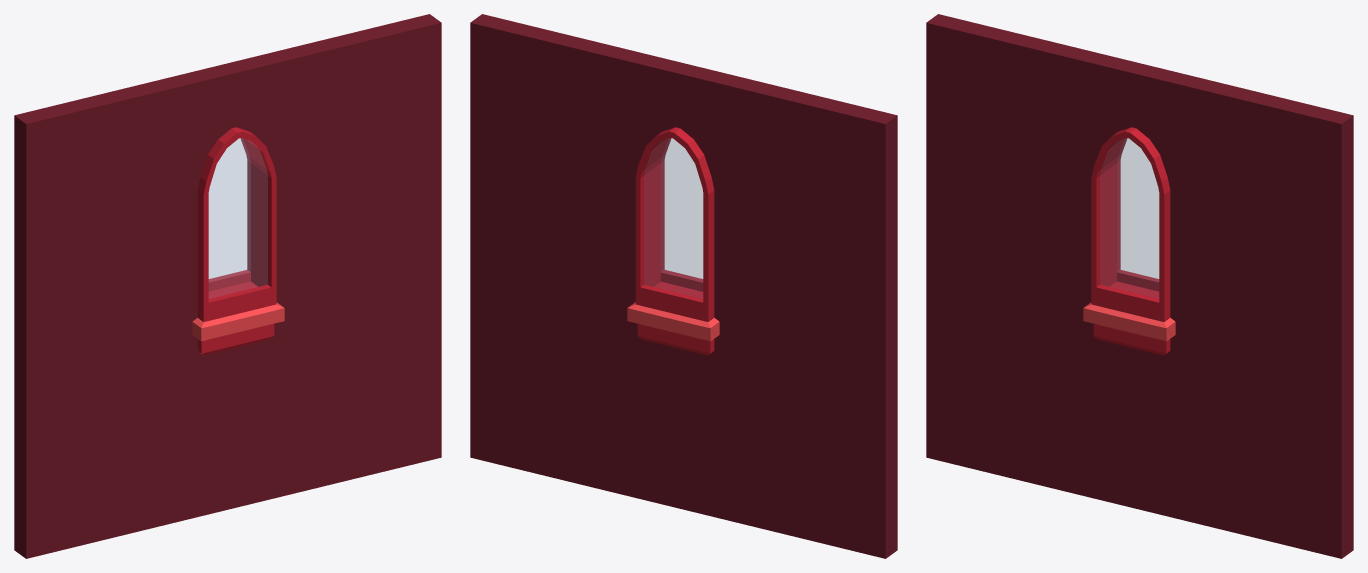
The model's file is wall_with1Window_001_grp.fbx.
The picture shows the model from 3 angles, left to right: view 1: azimuth 30°, elevation 25°; view 2: azimuth 150°, elevation 25°; view 3: azimuth 330°, elevation 25°; orthographic projection.
Parts seen in each view (by area): view 1: wall_with1Window_001_grp; view 2: wall_with1Window_001_grp; view 3: wall_with1Window_001_grp.
Part boxes in pixels (<box>): wall_with1Window_001_grp: <box>14,14,441,558</box>; wall_with1Window_001_grp: <box>470,14,897,558</box>; wall_with1Window_001_grp: <box>926,14,1353,558</box>.
Bounding box in the file's own units: 400 × 400 × 50.
